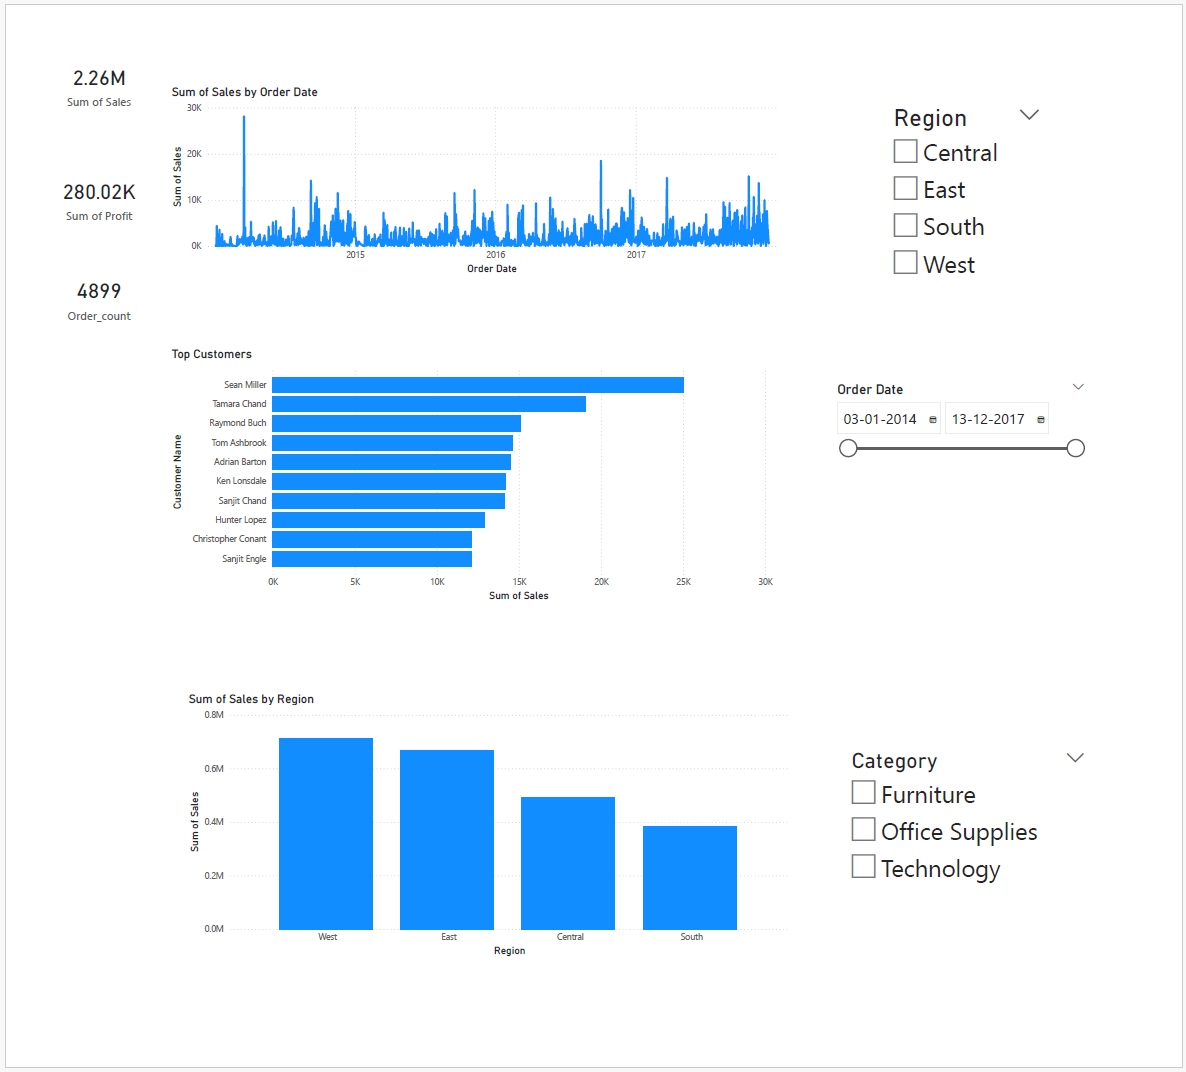

Layout of this report page (visuals, bound fields, positions):
{"tool":"powerbi","page":{"name":"Dashboard","canvas":[1600,1440],"ordinal":0},"visuals":[{"type":"card","title":"hdhf","fields":{"Values":["Sum(Superstore-dataset.Sales)"]},"box":[0,14.3,212.9,145.7],"z":0},{"type":"card","fields":{"Values":["Sum(Superstore-dataset.Profit)"]},"box":[0,175.7,212.9,140],"z":1000},{"type":"card","fields":{"Values":["Superstore-dataset.Order_count"]},"box":[0,315.7,212.9,140],"z":2000},{"type":"lineChart","fields":{"Category":["Superstore-dataset.Order Date"],"Y":["Sum(Superstore-dataset.Sales)"]},"box":[203.3,86.7,860,271.7],"z":3000},{"type":"clusteredBarChart","title":"Top Customers","fields":{"Category":["Superstore-dataset.Customer Name"],"Y":["Sum(Superstore-dataset.Sales)"]},"box":[203.3,455,851.7,361.7],"z":4000},{"type":"clusteredColumnChart","fields":{"Category":["Superstore-dataset.Region"],"Y":["Sum(Superstore-dataset.Sales)"]},"box":[226.7,938.3,851.7,376.7],"z":4001},{"type":"slicer","fields":{"Values":["Superstore-dataset.Region"]},"box":[1206.7,110,230,270],"z":4002},{"type":"slicer","fields":{"Values":["Superstore-dataset.Category"]},"box":[1148.3,1013.3,351.7,228.3],"z":4004},{"type":"slicer","fields":{"Values":["Superstore-dataset.Order Date"]},"box":[1128.3,498.3,371.7,221.7],"z":4005}]}

Visuals, with their boxes in screenshot pixels (x1, y1, x2, y2), scaled from the page's 1600x1440 canvas onto the 1186x1072 screenshot:
"hdhf" card: [0, 11, 158, 119]
card - Sum(Superstore-dataset.Profit): [0, 131, 158, 235]
card - Superstore-dataset.Order_count: [0, 235, 158, 339]
lineChart - Superstore-dataset.Order Date x Sum(Superstore-dataset.Sales): [151, 65, 788, 267]
"Top Customers" clusteredBarChart: [151, 339, 782, 608]
clusteredColumnChart - Superstore-dataset.Region x Sum(Superstore-dataset.Sales): [168, 699, 799, 979]
slicer - Superstore-dataset.Region: [894, 82, 1065, 283]
slicer - Superstore-dataset.Category: [851, 754, 1112, 924]
slicer - Superstore-dataset.Order Date: [836, 371, 1112, 536]
